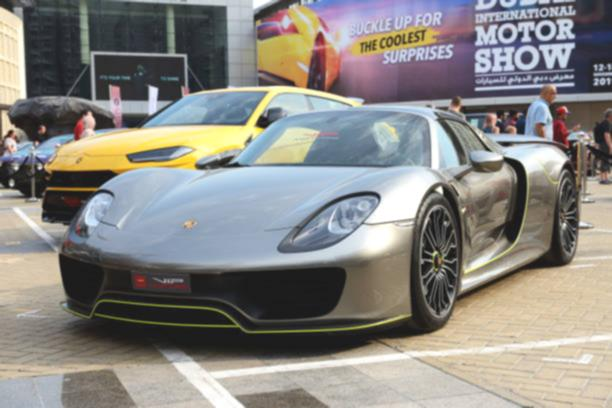porsche: (179, 217, 202, 232)
